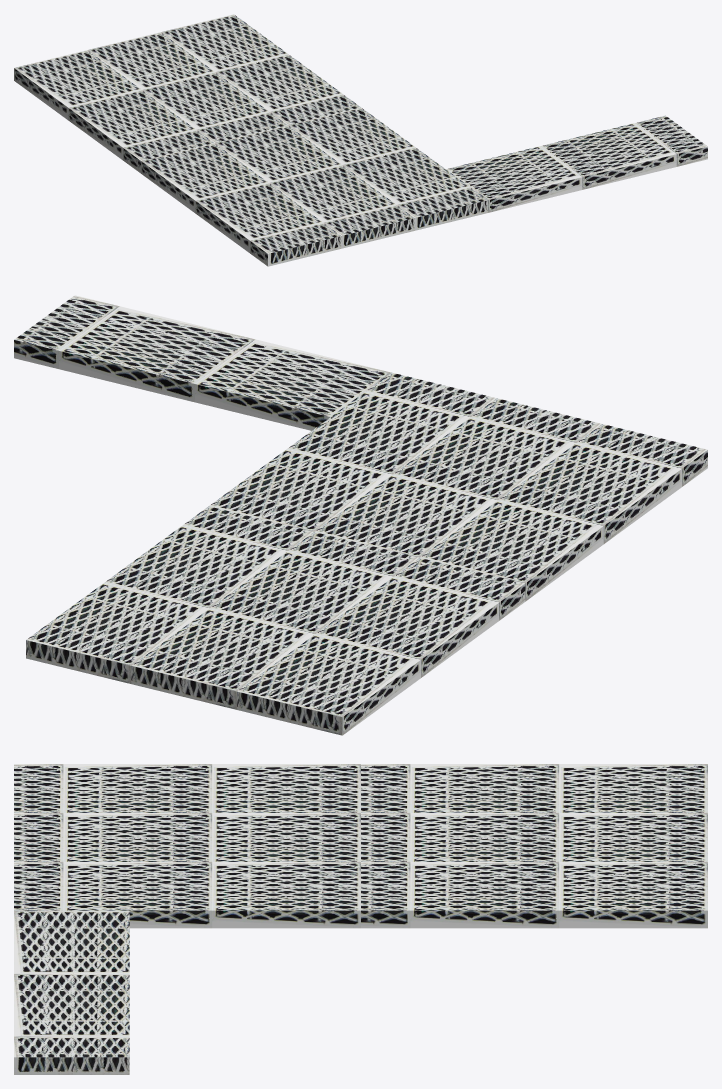
File: Grating.dae
The picture shows the model from 3 angles, top to bottom: view 1: azimuth 30°, elevation 25°; view 2: azimuth 150°, elevation 25°; view 3: azimuth 270°, elevation 25°; orthographic projection. The views are drawn at different scales.
Visible parts, largest first — view 1: group_3, group_7, group_0, group_4, group_5, group_1, group_6; view 2: group_3, group_0, group_7, group_6, group_1, group_4, group_5; view 3: group_1, group_4, group_3, group_0, group_5, group_6, group_7.
Part boxes in pixels (<box>): group_3: <box>446,115,707,212</box>; group_7: <box>141,143,341,266</box>; group_0: <box>14,50,213,173</box>; group_4: <box>288,107,487,230</box>; group_5: <box>214,125,414,248</box>; group_1: <box>161,14,360,124</box>; group_6: <box>87,32,287,142</box>; group_3: <box>14,295,390,430</box>; group_0: <box>237,558,525,735</box>; group_7: <box>420,424,707,601</box>; group_6: <box>131,532,419,709</box>; group_1: <box>26,506,313,683</box>; group_4: <box>209,372,496,531</box>; group_5: <box>315,398,601,557</box>; group_1: <box>361,862,707,928</box>; group_4: <box>14,862,360,928</box>; group_3: <box>14,910,129,1074</box>; group_0: <box>361,764,707,812</box>; group_5: <box>14,813,360,861</box>; group_6: <box>361,813,707,861</box>; group_7: <box>14,764,360,812</box>.
Bounding box in the file's own units: 142 × 142 × 3.94.
Materials: 2 (2 with a texture image).
